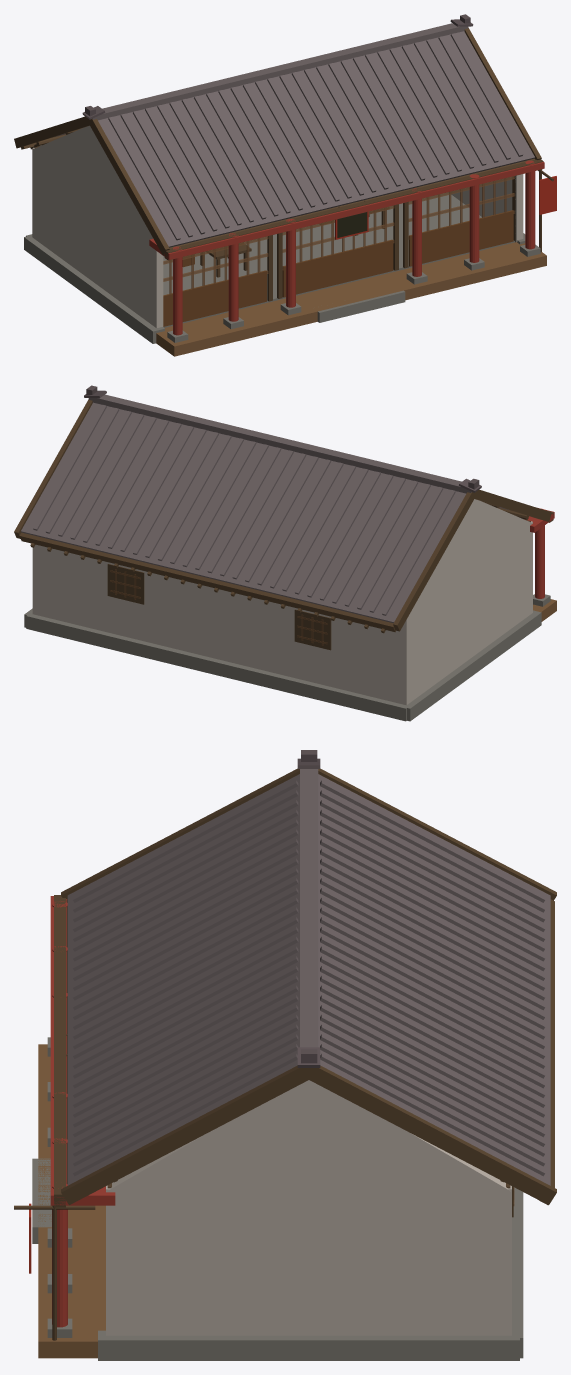
File: lib_tieu_quan.glb
The picture shows the model from 3 angles, top to bottom: view 1: azimuth 30°, elevation 25°; view 2: azimuth 150°, elevation 25°; view 3: azimuth 270°, elevation 25°; orthographic projection. The views are drawn at different scales.
Parts seen in each view (by area): view 1: tieu_quan_body; view 2: tieu_quan_body; view 3: tieu_quan_body.
Part boxes in pixels (x1,y1,x2,y2): tieu_quan_body: [14, 14, 556, 356]; tieu_quan_body: [14, 385, 556, 721]; tieu_quan_body: [14, 750, 556, 1360].
Size of the model in its own units: 13.45 by 6.27 by 10.03.
Materials: 2 (2 with a texture image).
